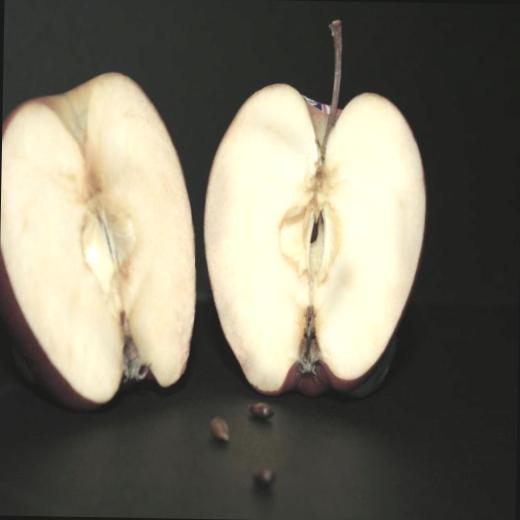Apple: (183, 22, 423, 401), (0, 71, 204, 416)
